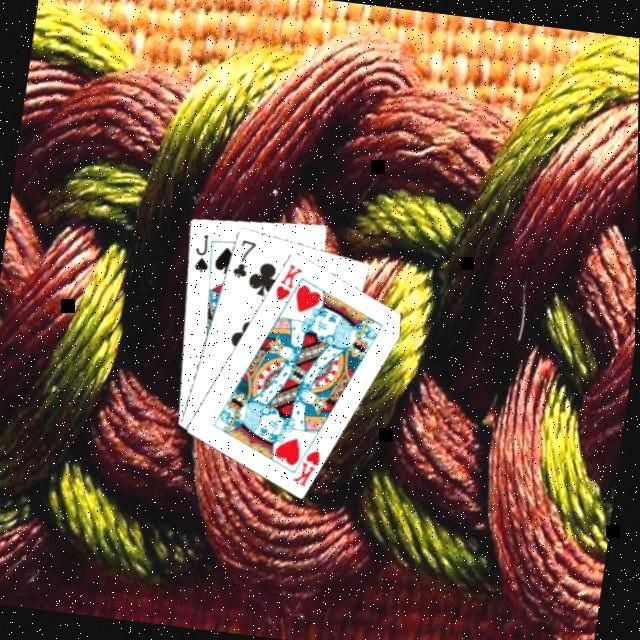7C: (227, 233, 259, 280)
JS: (187, 227, 213, 273)
KH: (269, 256, 305, 303), (288, 441, 324, 488)
